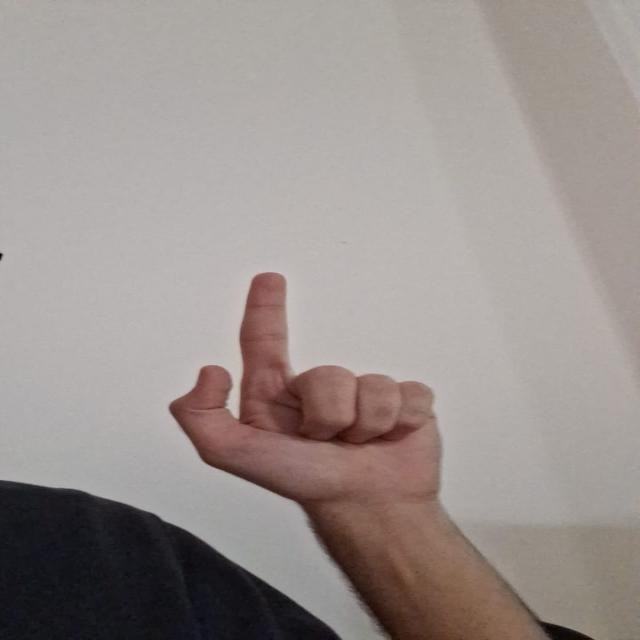G: (160, 267, 456, 500)
